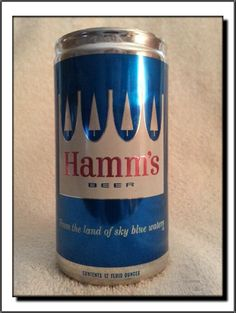beer can: (54, 27, 169, 287)
